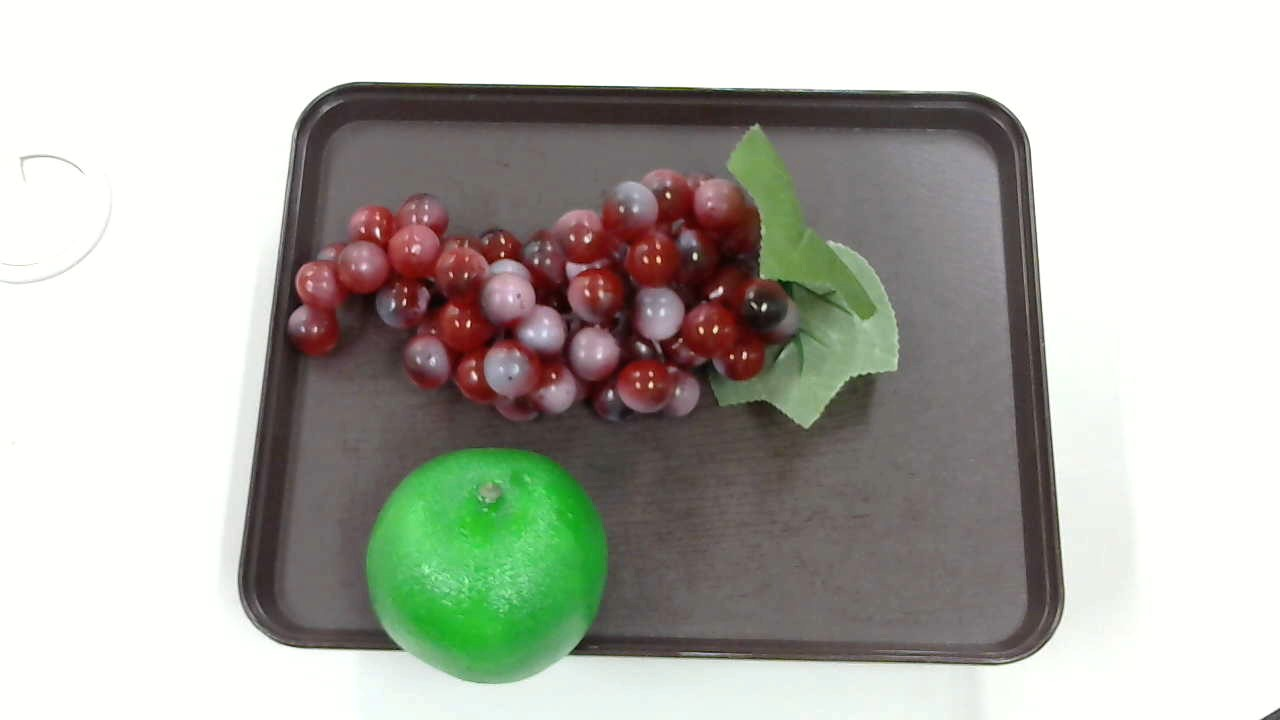grape: (288, 119, 917, 444)
green orange: (364, 444, 608, 681)
